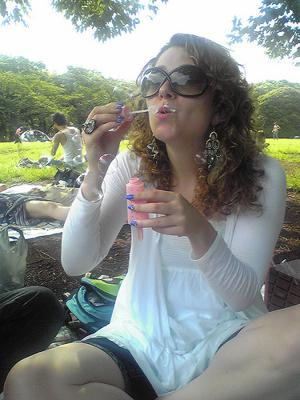person: (3, 34, 300, 400)
